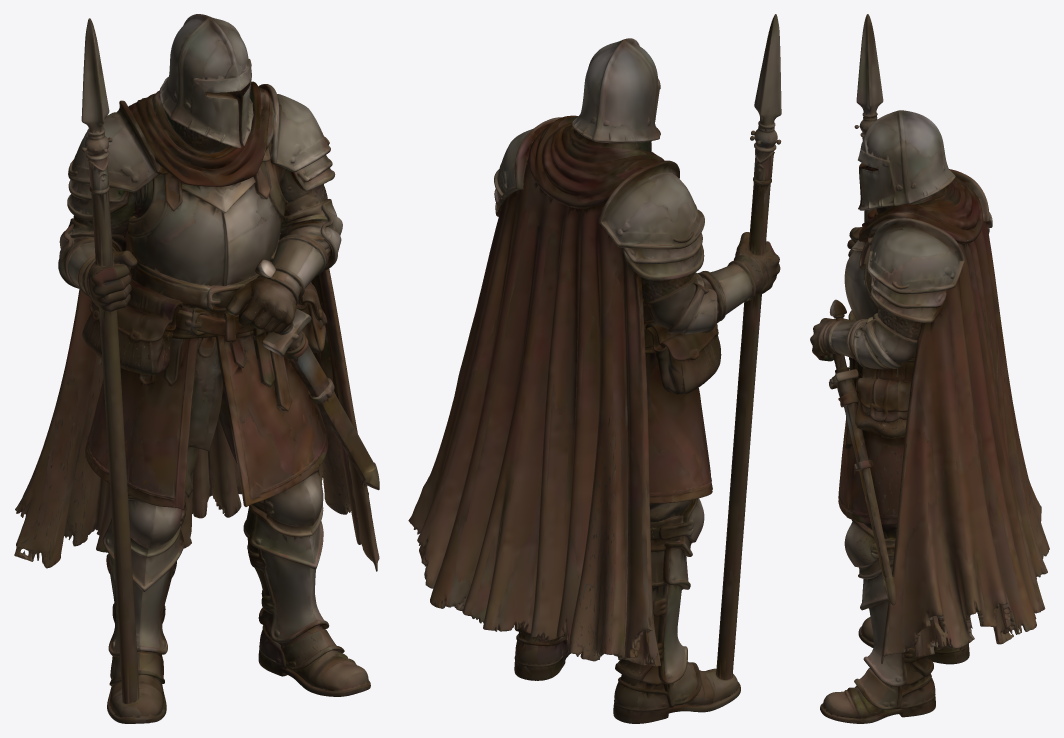
The model's file is city_guard.glb.
3 views of the same model, side by side, from view 1: azimuth 30°, elevation 25°; view 2: azimuth 150°, elevation 25°; view 3: azimuth 270°, elevation 25° (orthographic). The views are drawn at different scales.
Parts seen in each view (by area): view 1: material; view 2: material; view 3: material.
Boxes of the visible parts, <box> form: material: <box>14,14,379,723</box>; material: <box>408,14,781,723</box>; material: <box>810,14,1049,723</box>.
Bounding box in the file's own units: 0.5134 × 1.08 × 0.3871.
Materials: 1 (1 with a texture image).
